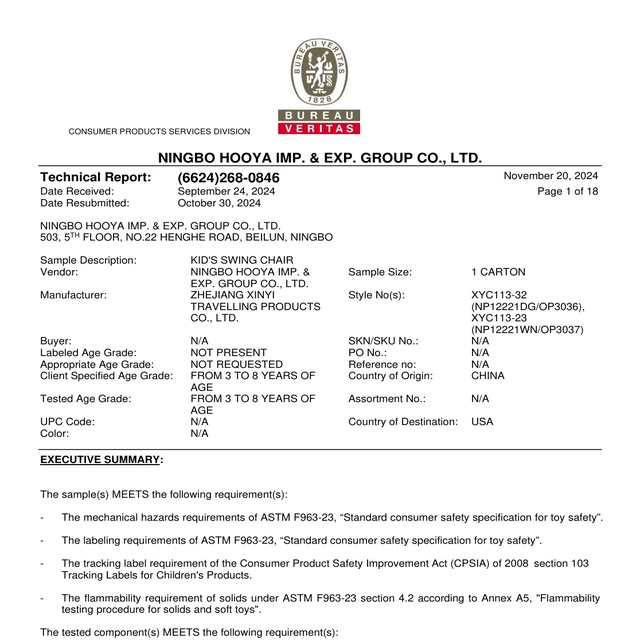bureau_veritas: (277, 33, 362, 134)
